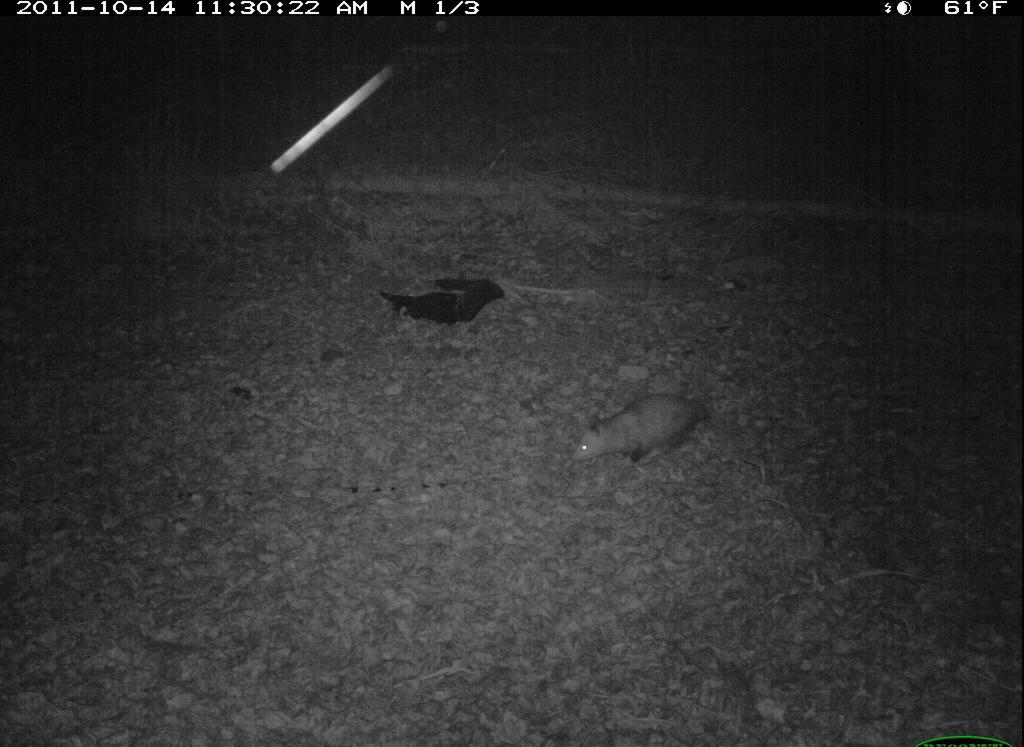opossum: (559, 372, 716, 489)
